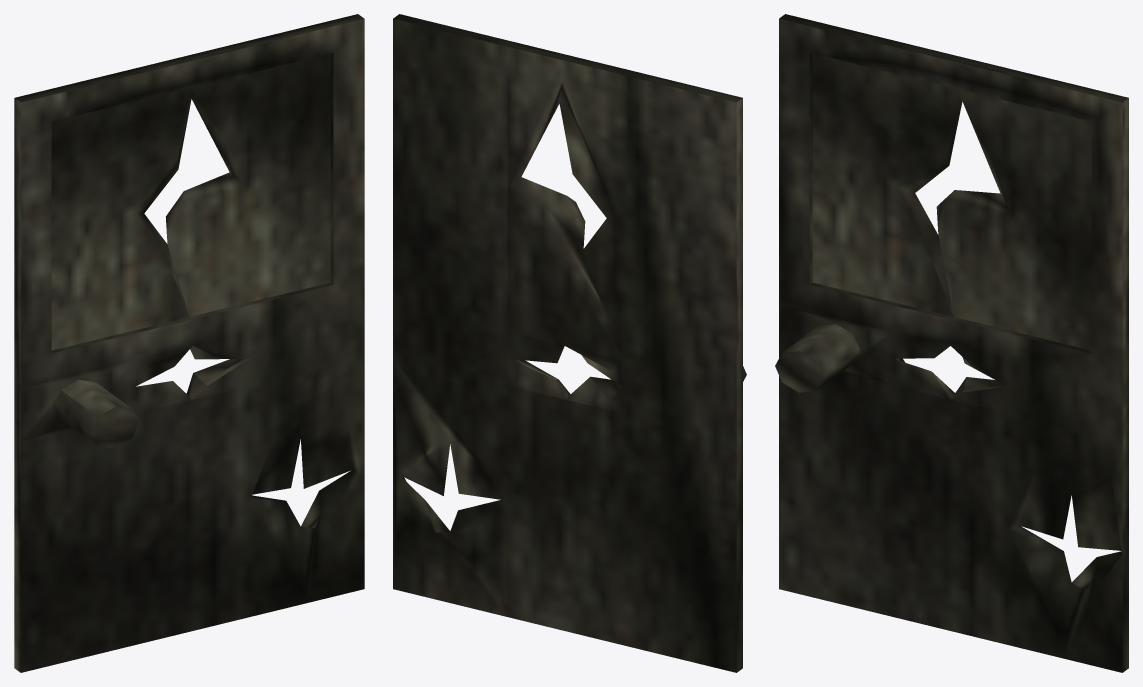
The model's file is PuertaMadera.fbx.
3 views of the same model, side by side, from view 1: azimuth 30°, elevation 25°; view 2: azimuth 150°, elevation 25°; view 3: azimuth 330°, elevation 25° (orthographic).
Visible parts, largest first — view 1: Puerta.001; view 2: Puerta.001; view 3: Puerta.001.
Part boxes in pixels (box(x1,y1,x2,y2)): Puerta.001: box(14, 14, 364, 672); Puerta.001: box(393, 14, 746, 672); Puerta.001: box(775, 14, 1128, 672).
Bounding box in the file's own units: 123 × 195 × 29.01.
